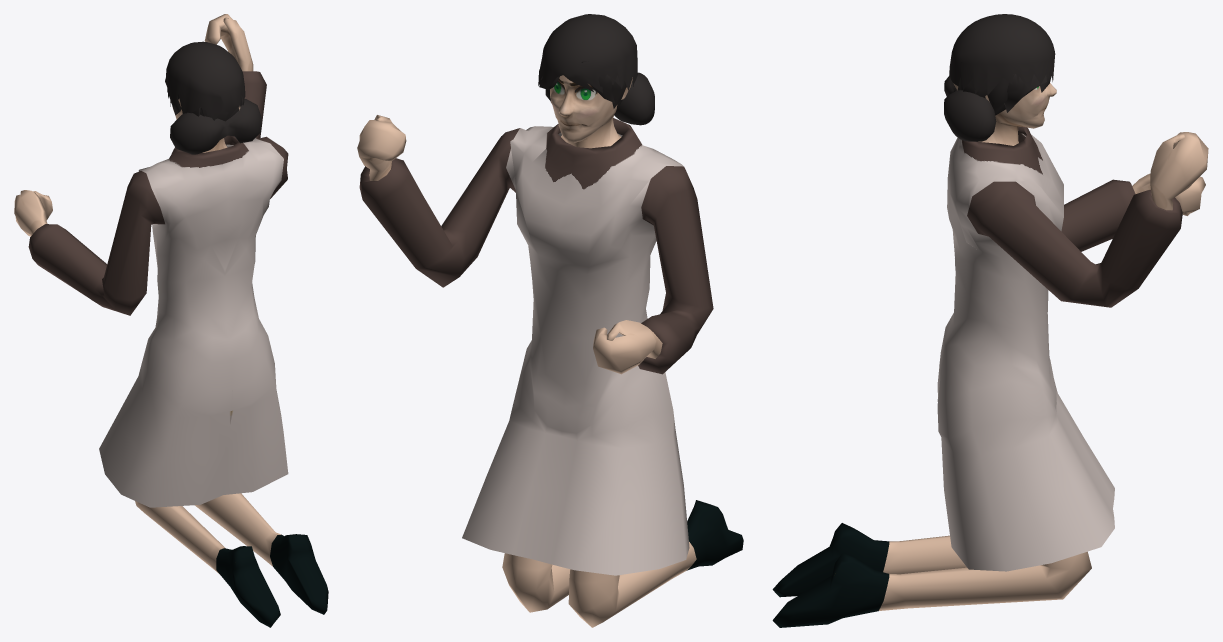
File: Annabella.fbx
3 views of the same model, side by side, from view 1: azimuth 30°, elevation 25°; view 2: azimuth 150°, elevation 25°; view 3: azimuth 270°, elevation 25° (orthographic). The views are drawn at different scales.
Parts seen in each view (by area): view 1: pCylinder36; view 2: pCylinder36; view 3: pCylinder36.
Part boxes in pixels (bbox=[...]): pCylinder36: bbox=[14, 14, 328, 627]; pCylinder36: bbox=[357, 14, 743, 627]; pCylinder36: bbox=[772, 14, 1208, 627].
Bounding box in the file's own units: 0.4254 × 0.8352 × 0.5543.
